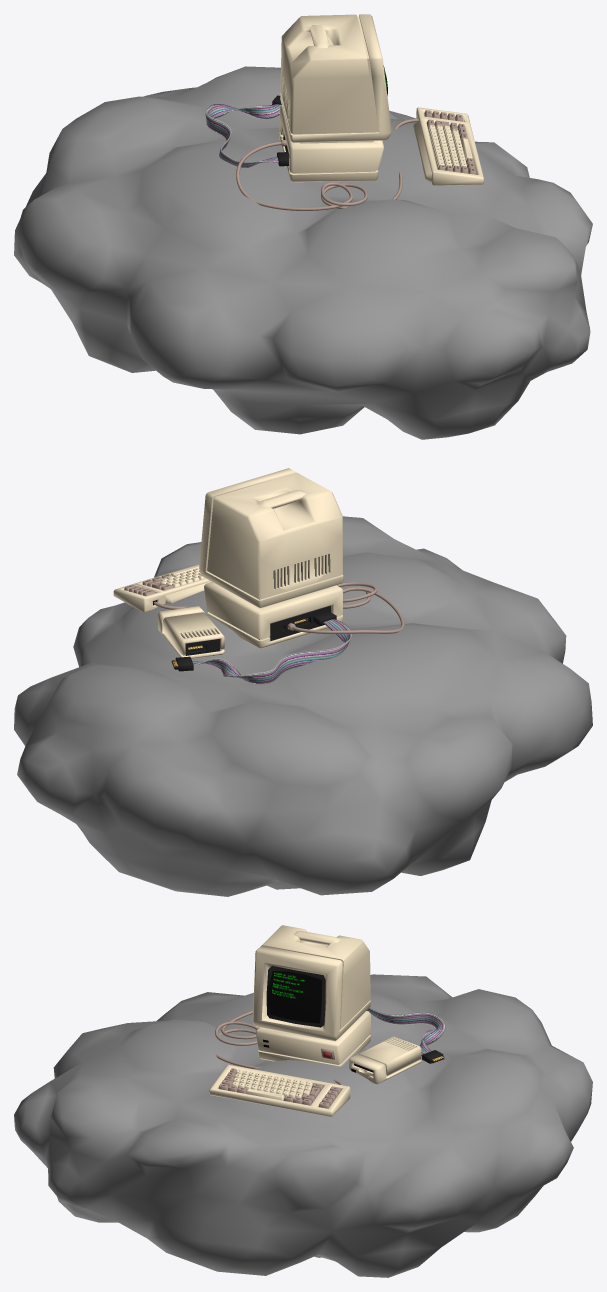
The model's file is computer.glb.
The picture shows the model from 3 angles, top to bottom: view 1: azimuth 30°, elevation 25°; view 2: azimuth 150°, elevation 25°; view 3: azimuth 270°, elevation 25°; orthographic projection. The views are drawn at different scales.
Visible parts, largest first — view 1: Object_3, computer, keyboard, keyboard-keys, ribbon, BezierCurve; view 2: Object_3, computer, floppy drive, ribbon, keyboard, BezierCurve, keyboard-keys; view 3: Object_3, computer, keyboard-keys, floppy drive, keyboard, ribbon, BezierCurve.
Part boxes in pixels (x1=…): Object_3: x1=14, y1=66, x2=592, y2=439; computer: x1=279, y1=14, x2=391, y2=182; keyboard: x1=413, y1=107, x2=483, y2=185; keyboard-keys: x1=424, y1=110, x2=476, y2=174; ribbon: x1=205, y1=104, x2=281, y2=167; BezierCurve: x1=236, y1=118, x2=417, y2=210; Object_3: x1=14, y1=516, x2=592, y2=896; computer: x1=199, y1=468, x2=343, y2=648; floppy drive: x1=158, y1=606, x2=224, y2=658; ribbon: x1=192, y1=619, x2=351, y2=684; keyboard: x1=113, y1=564, x2=211, y2=612; BezierCurve: x1=153, y1=582, x2=404, y2=633; keyboard-keys: x1=124, y1=565, x2=204, y2=595; Object_3: x1=14, y1=974, x2=592, y2=1277; computer: x1=252, y1=925, x2=370, y2=1067; keyboard-keys: x1=218, y1=1068, x2=341, y2=1108; floppy drive: x1=349, y1=1036, x2=421, y2=1084; keyboard: x1=209, y1=1064, x2=350, y2=1116; ribbon: x1=366, y1=1007, x2=445, y2=1055; BezierCurve: x1=215, y1=1010, x2=342, y2=1085.
Bounding box in the file's own units: 5.57 × 4.23 × 7.02.
Materials: 10 (9 with a texture image).
